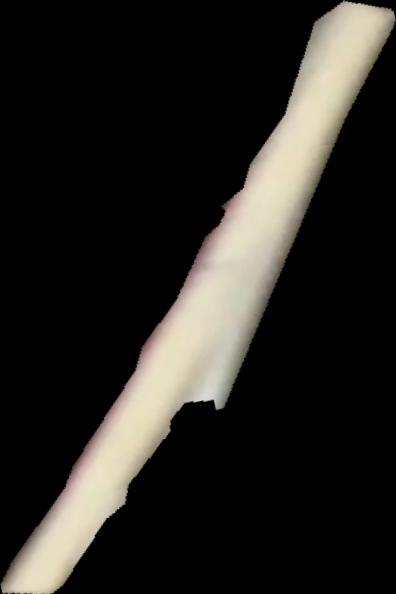backward: (1, 1, 396, 594)
